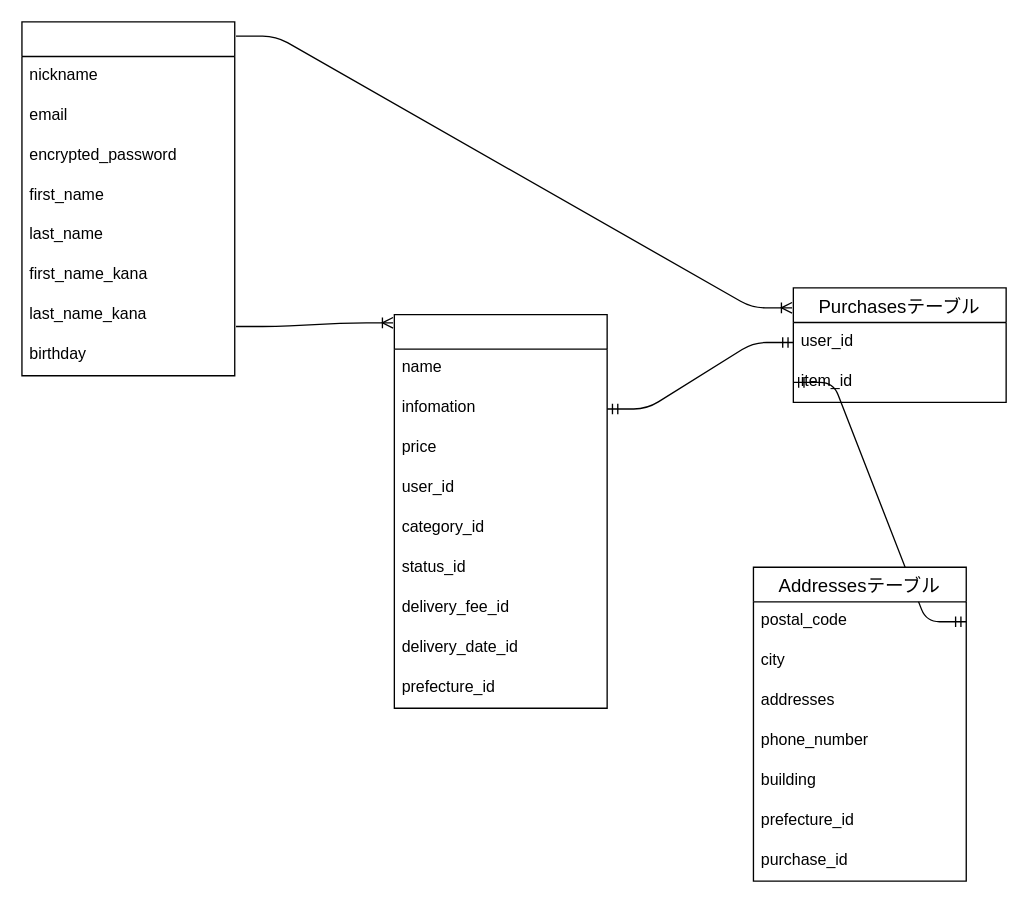
This 1028x903 diagram has some shape labels left out. Here are the shapes that lost their labels. From the top down, the box of each, then its label:
(21, 21, 235, 376): Usersテーブル
(393, 313, 607, 708): Itemsテーブル
